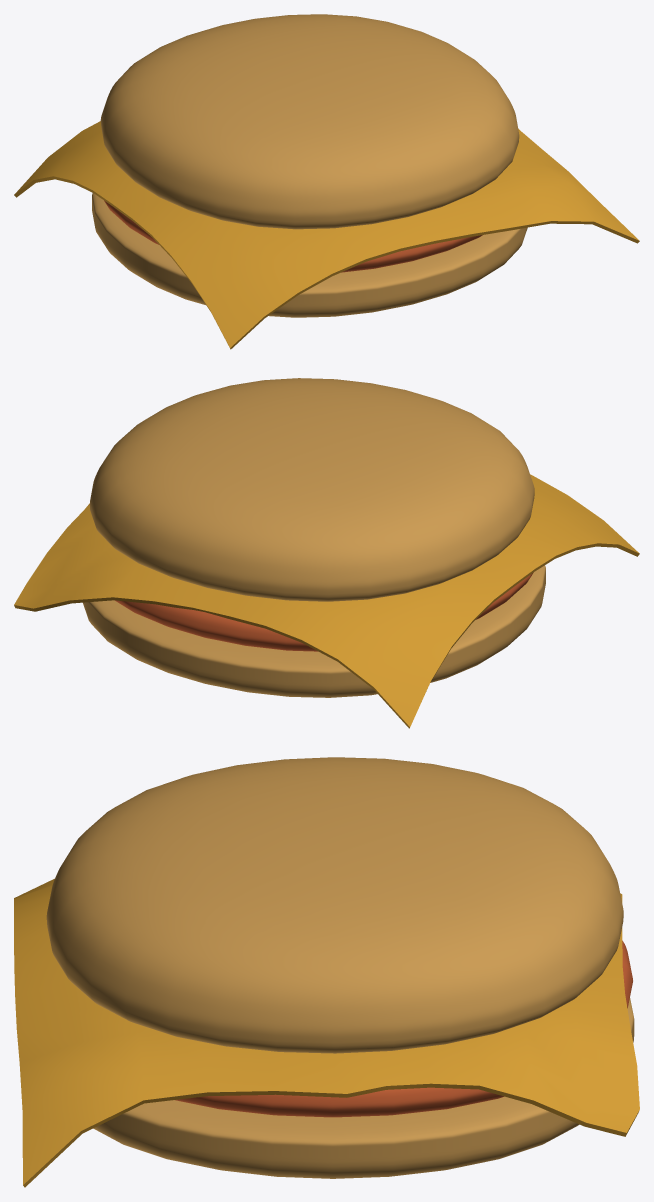
The model's file is hamburger.glb.
The picture shows the model from 3 angles, top to bottom: view 1: azimuth 30°, elevation 25°; view 2: azimuth 150°, elevation 25°; view 3: azimuth 270°, elevation 25°; orthographic projection. The views are drawn at different scales.
Visible parts, largest first — view 1: Cube.002, Plane, Cube, Cube.001; view 2: Cube.002, Plane, Cube, Cube.001; view 3: Cube.002, Plane, Cube, Cube.001.
Part boxes in pixels (x1=…): Cube.002: x1=100, y1=14, x2=519, y2=229; Plane: x1=14, y1=121, x2=639, y2=349; Cube: x1=92, y1=193, x2=527, y2=317; Cube.001: x1=104, y1=200, x2=482, y2=272; Cube.002: x1=89, y1=378, x2=534, y2=601; Plane: x1=14, y1=474, x2=639, y2=728; Cube: x1=83, y1=565, x2=545, y2=697; Cube.001: x1=115, y1=572, x2=533, y2=651; Cube.002: x1=46, y1=757, x2=623, y2=1053; Plane: x1=14, y1=878, x2=639, y2=1187; Cube: x1=93, y1=998, x2=634, y2=1178; Cube.001: x1=175, y1=940, x2=632, y2=1117.
Size of the model in its own units: 10.15 by 4.18 by 9.47.
